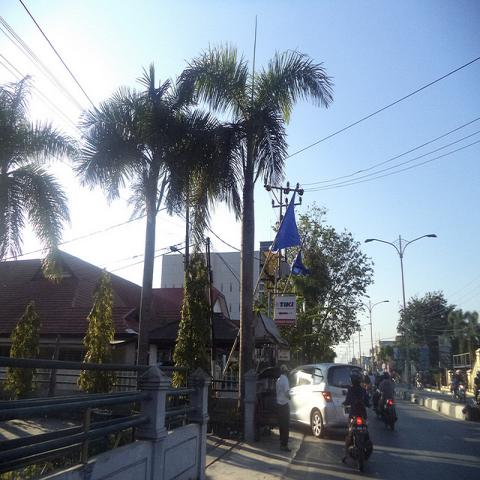car: (287, 366, 363, 438)
motorcycle: (341, 390, 373, 473), (381, 398, 396, 433)
